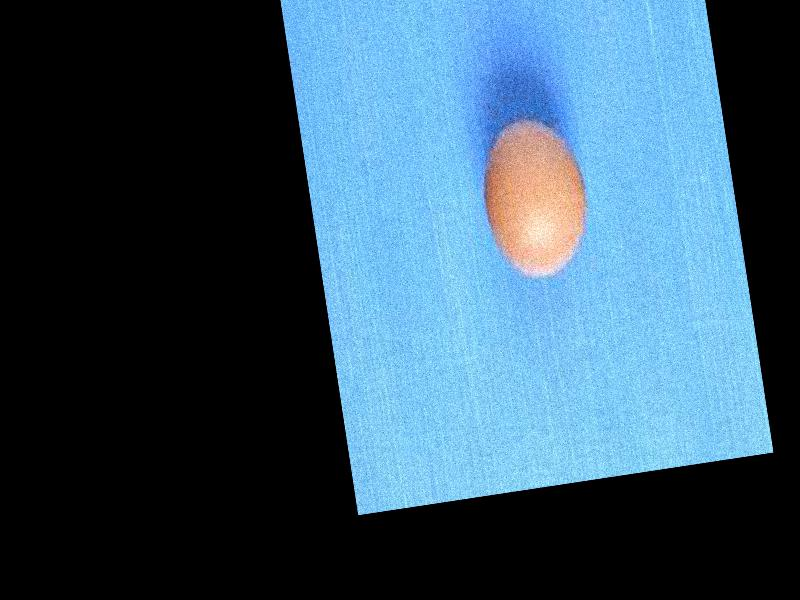Eggs: (474, 108, 596, 286)
